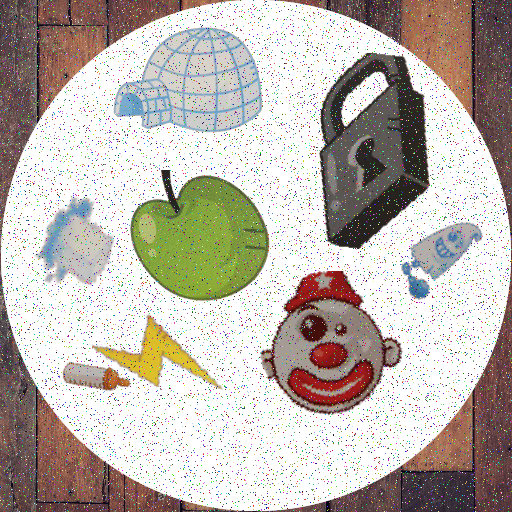apple_icon: (122, 170, 271, 319)
bottle_icon: (61, 343, 131, 413)
clown_icon: (260, 271, 406, 417)
cube_icon: (30, 196, 133, 299)
ghost_icon: (391, 206, 491, 306)
igloo_icon: (107, 12, 264, 169)
lightning_icon: (92, 295, 226, 429)
lock_icon: (269, 53, 465, 249)
